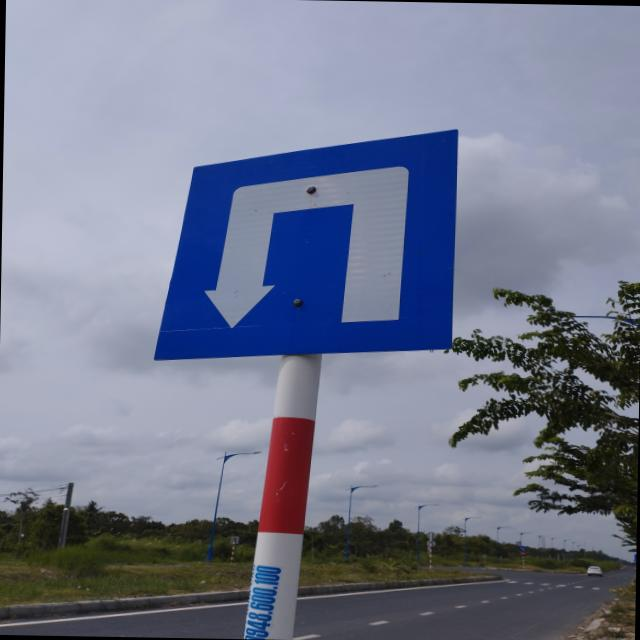Den_Giao_Thong: (153, 120, 460, 364)
